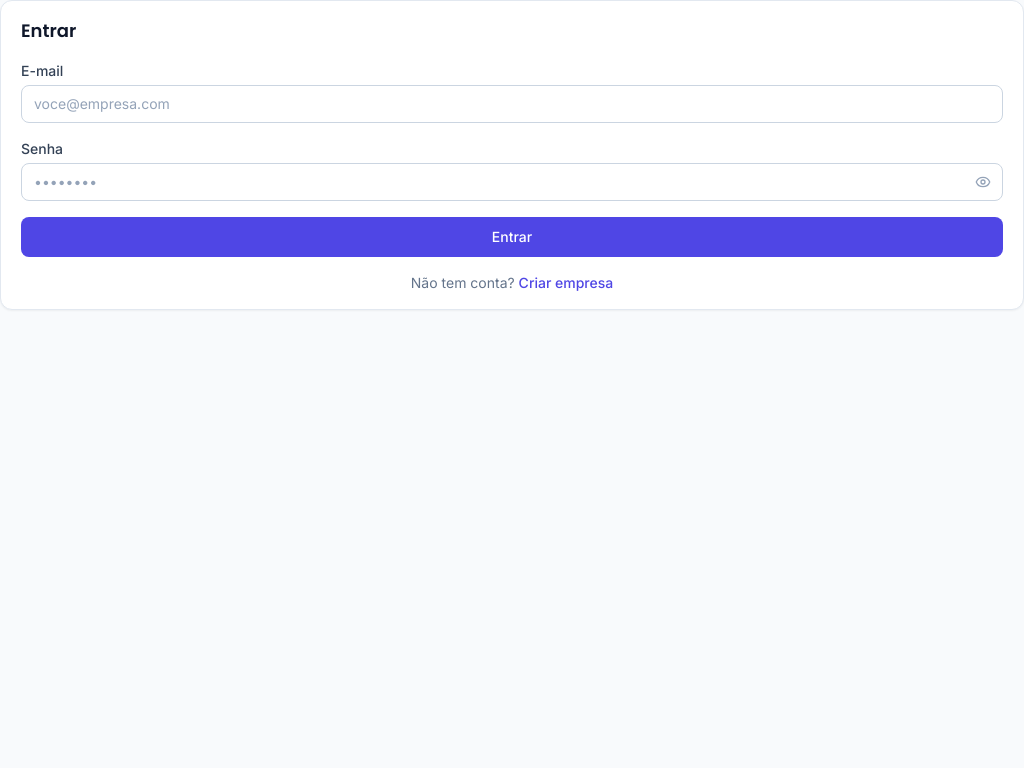
it: Login page › error: shows the backend error message on invalid credentials
The width and height of the screenshot is (1024, 768).
Type "admin@acme.com" into the field with placeholder "voce@empresa.com" at x=512, y=104, box [21,85,1003,123]
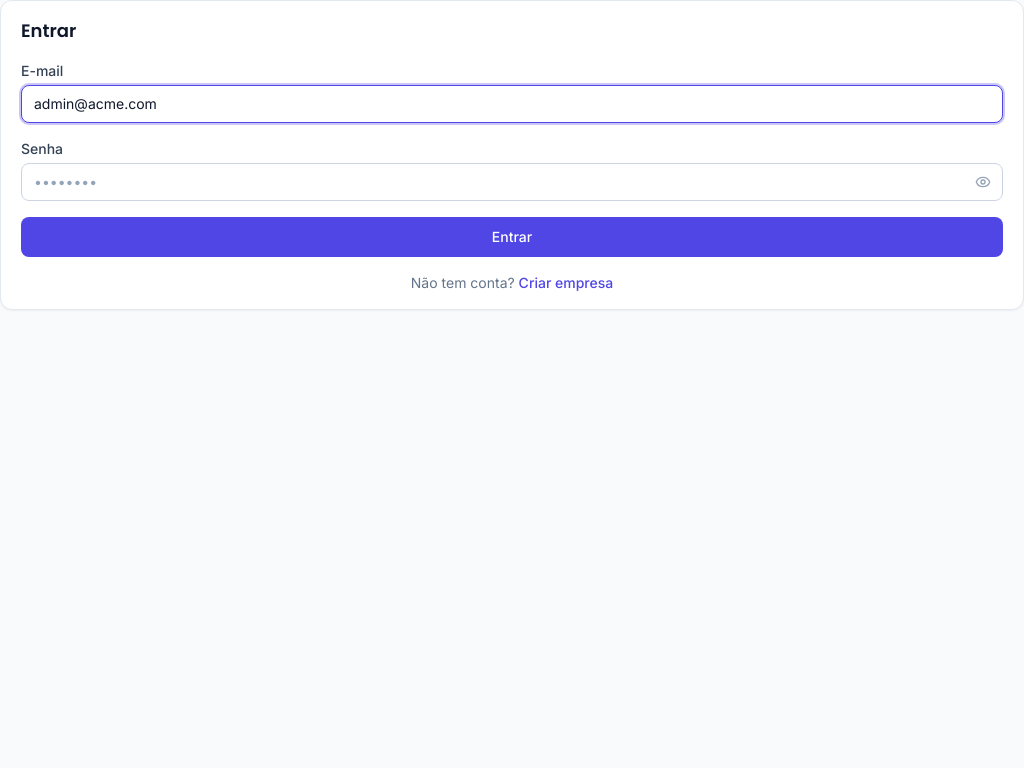
Type "secret123" into the password field with placeholder "••••••••" at x=512, y=182, box [21,163,1003,201]
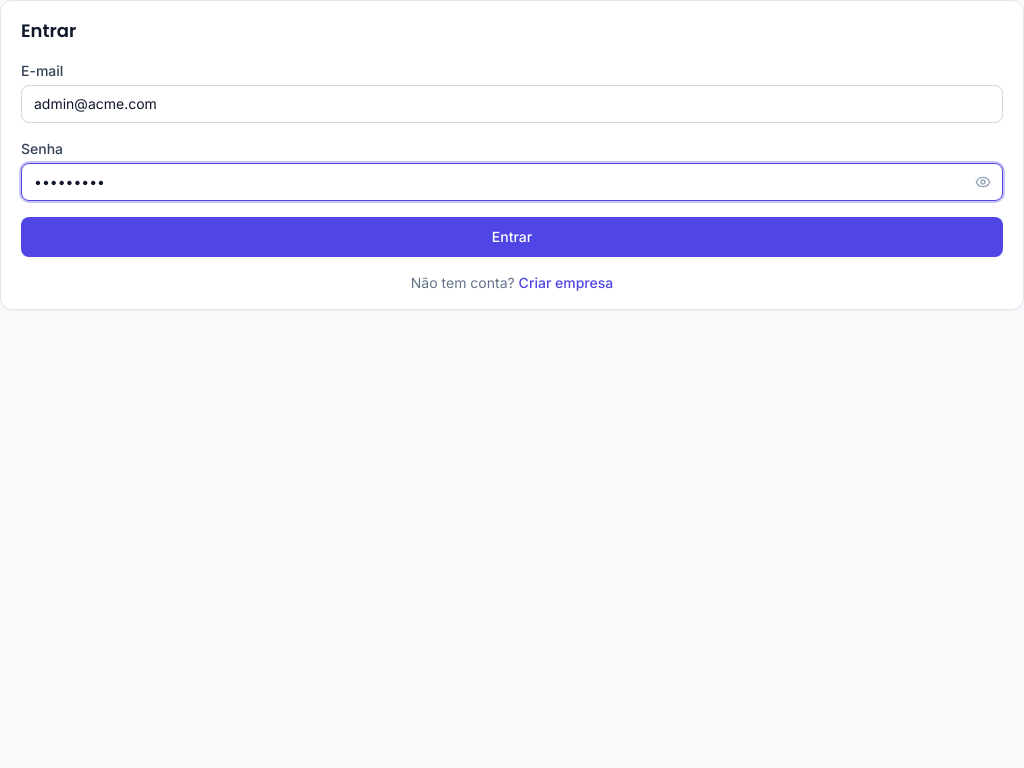
Click the button "Entrar" at x=512, y=237, box [21,217,1003,257]
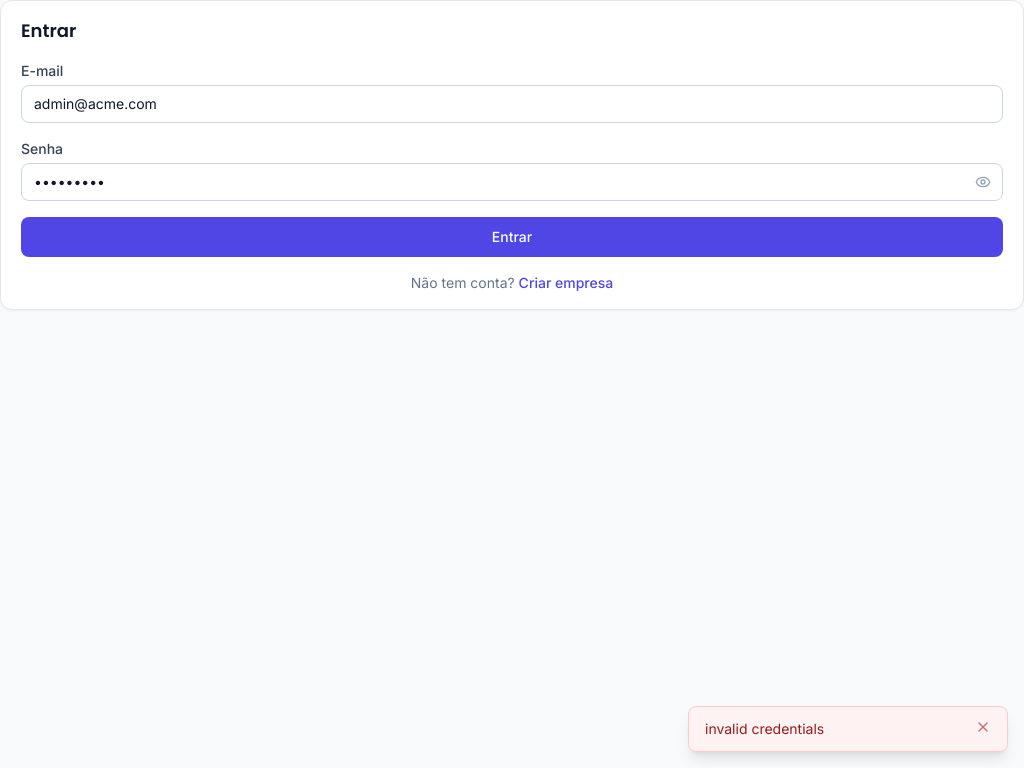
Expected: the text "invalid credentials" is shown, [705,720,824,737]
